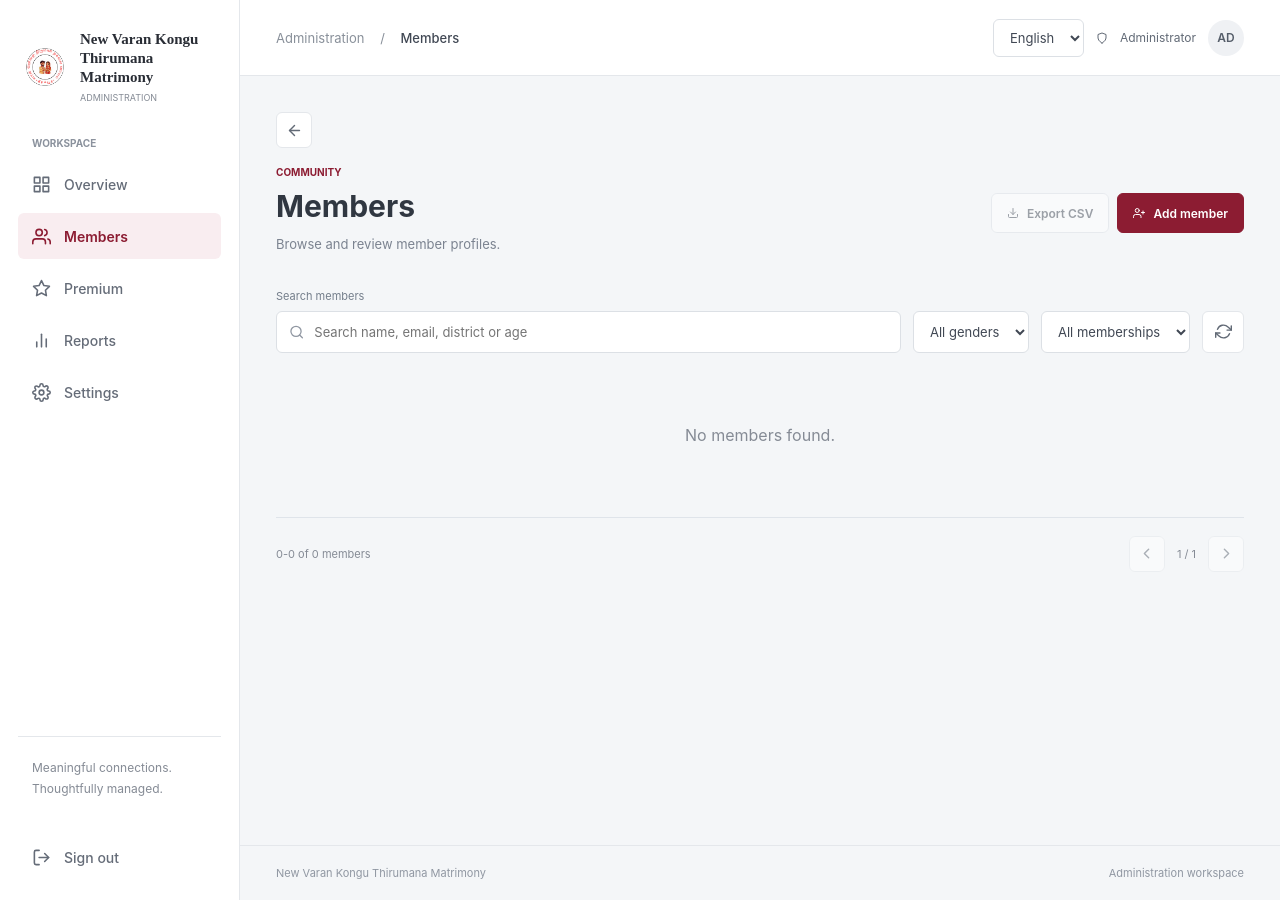
it: adds a member and displays server errors without closing the form
Expected: the text "No members found." is shown, left=685, top=425, right=835, bottom=445
Click the button "Add member".
click(1181, 213)  # box left=1117, top=193, right=1244, bottom=233
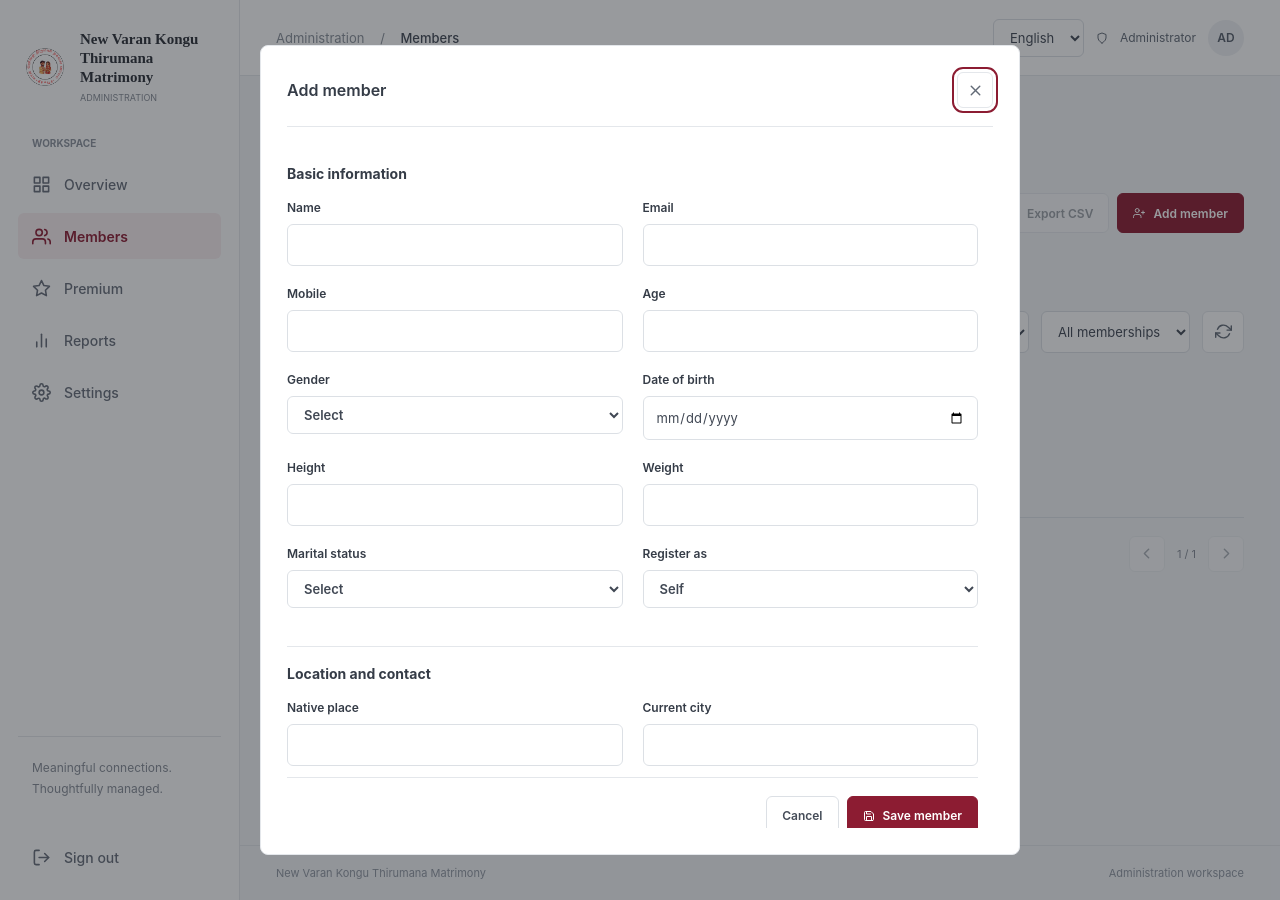
Type "New Member" into the field labelled "Name".
click(455, 245); type("New Member")  # box left=287, top=224, right=622, bottom=266
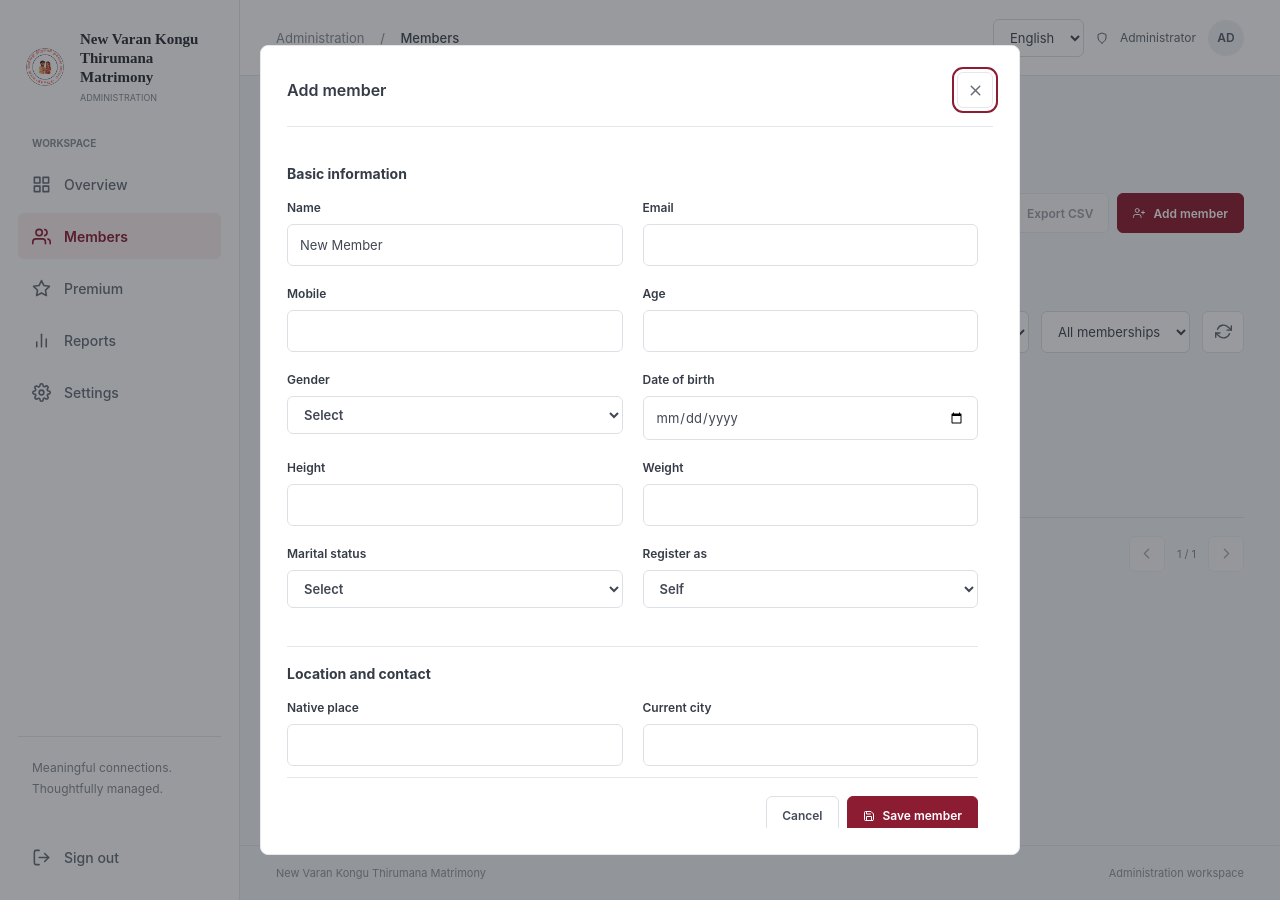
Type "new@example.com" into the field labelled "Email".
click(810, 245); type("new@example.com")  # box left=642, top=224, right=978, bottom=266
(page scrolled)
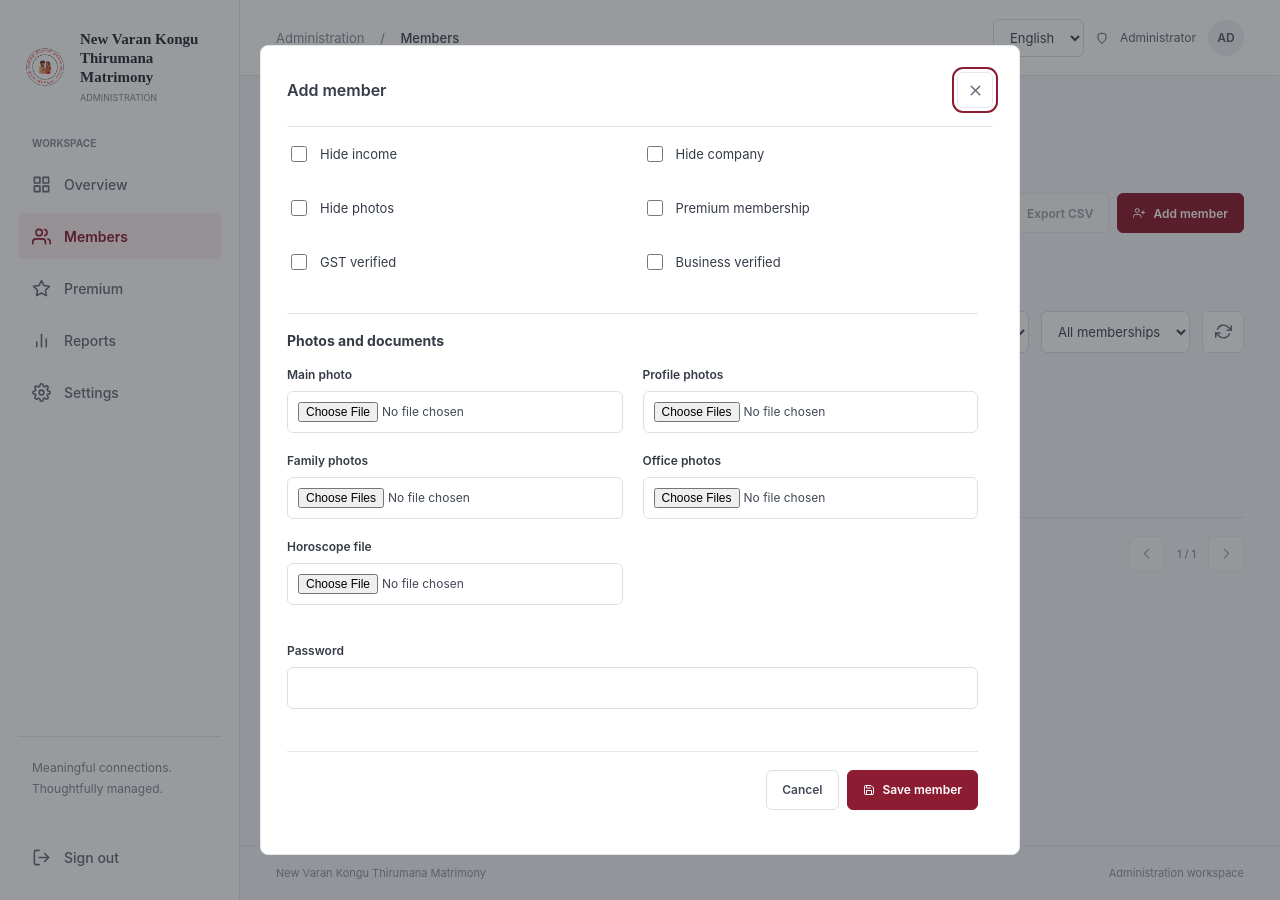
Type "test-password" into the password field labelled "Password".
click(632, 688); type("test-password")  # box left=287, top=667, right=978, bottom=709
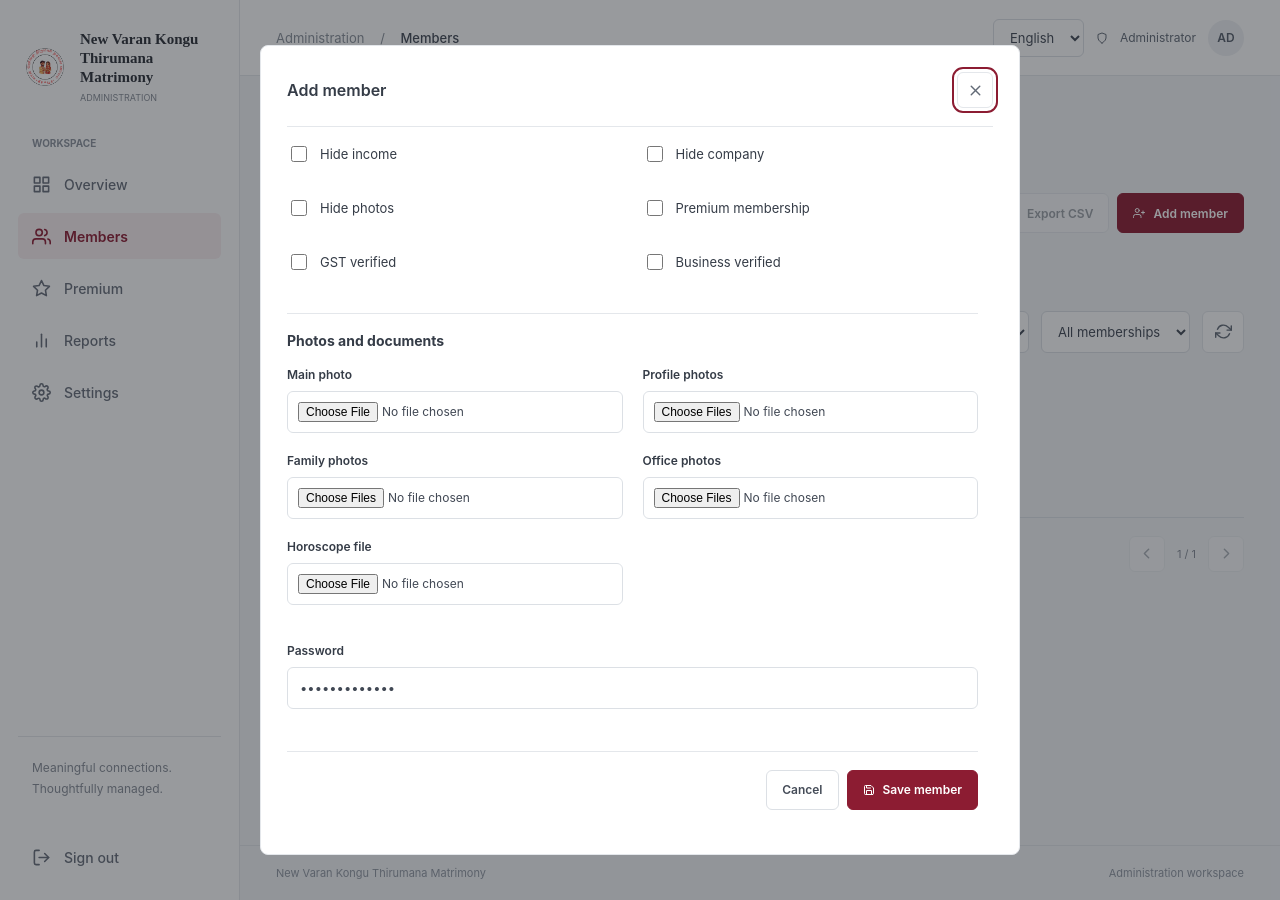
Click the button "Save member".
click(912, 790)  # box left=846, top=770, right=978, bottom=810
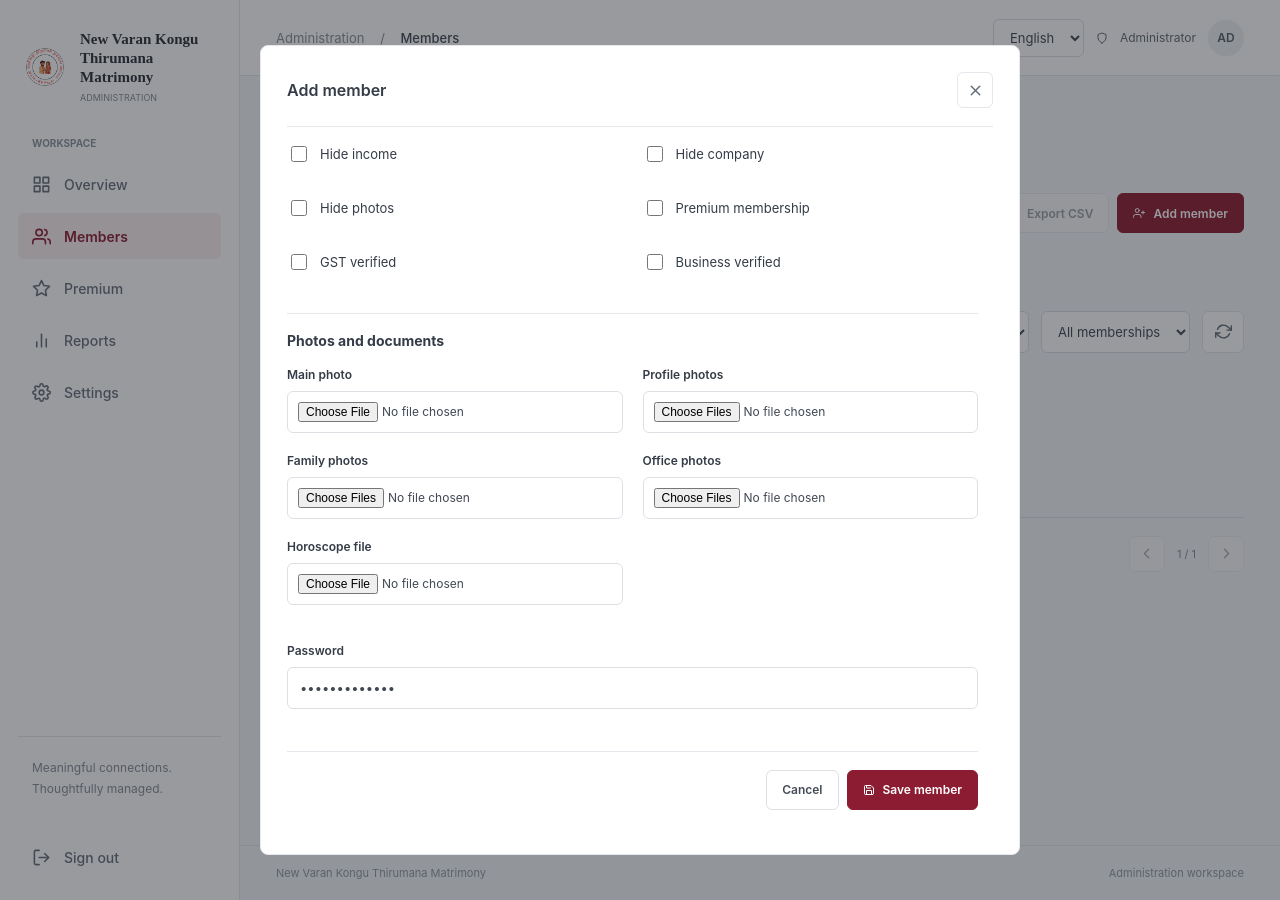
Click the button "Save member".
click(912, 790)  # box left=846, top=770, right=978, bottom=810
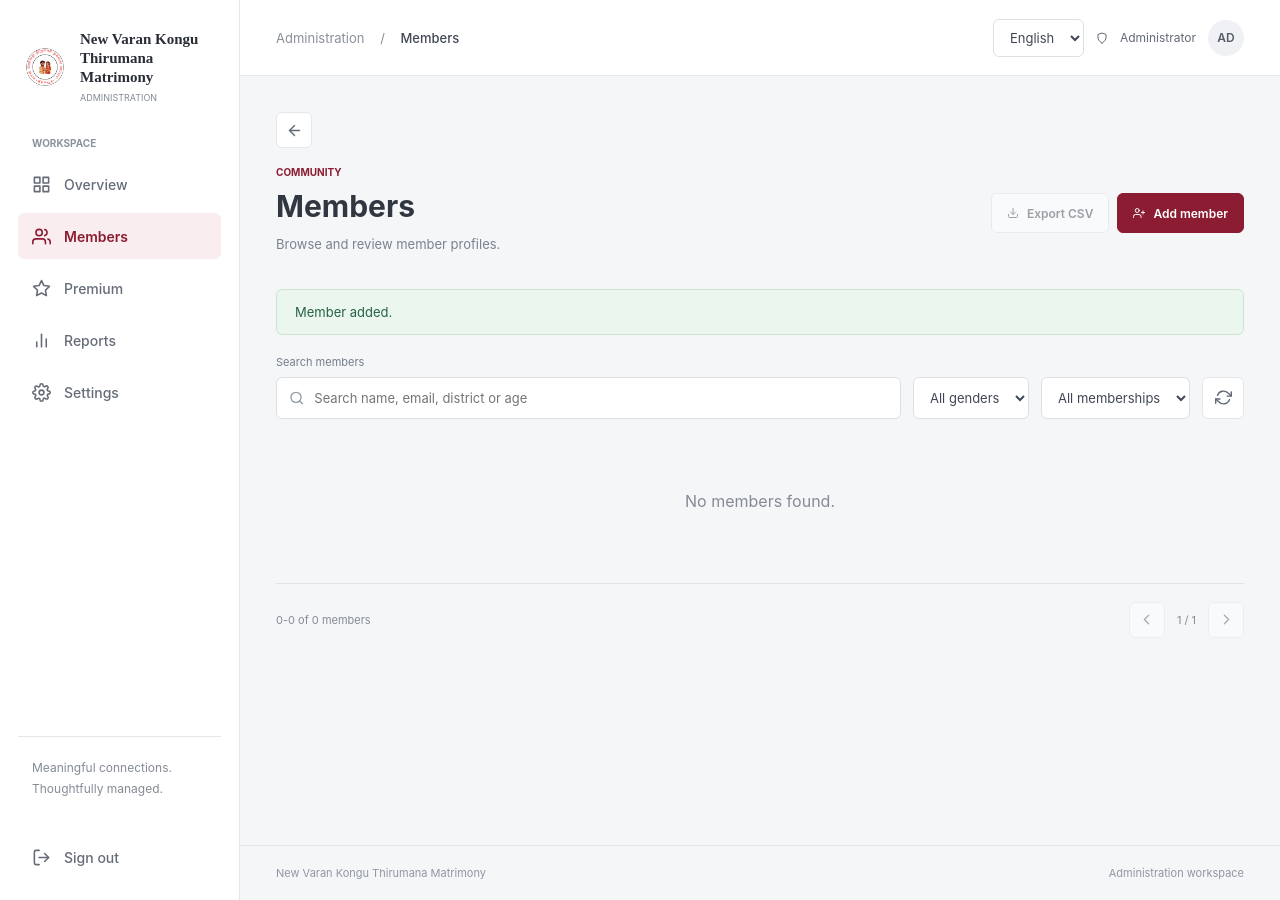
Now the text "Member added." is shown, box left=276, top=289, right=1244, bottom=335
Now the dialog is gone
